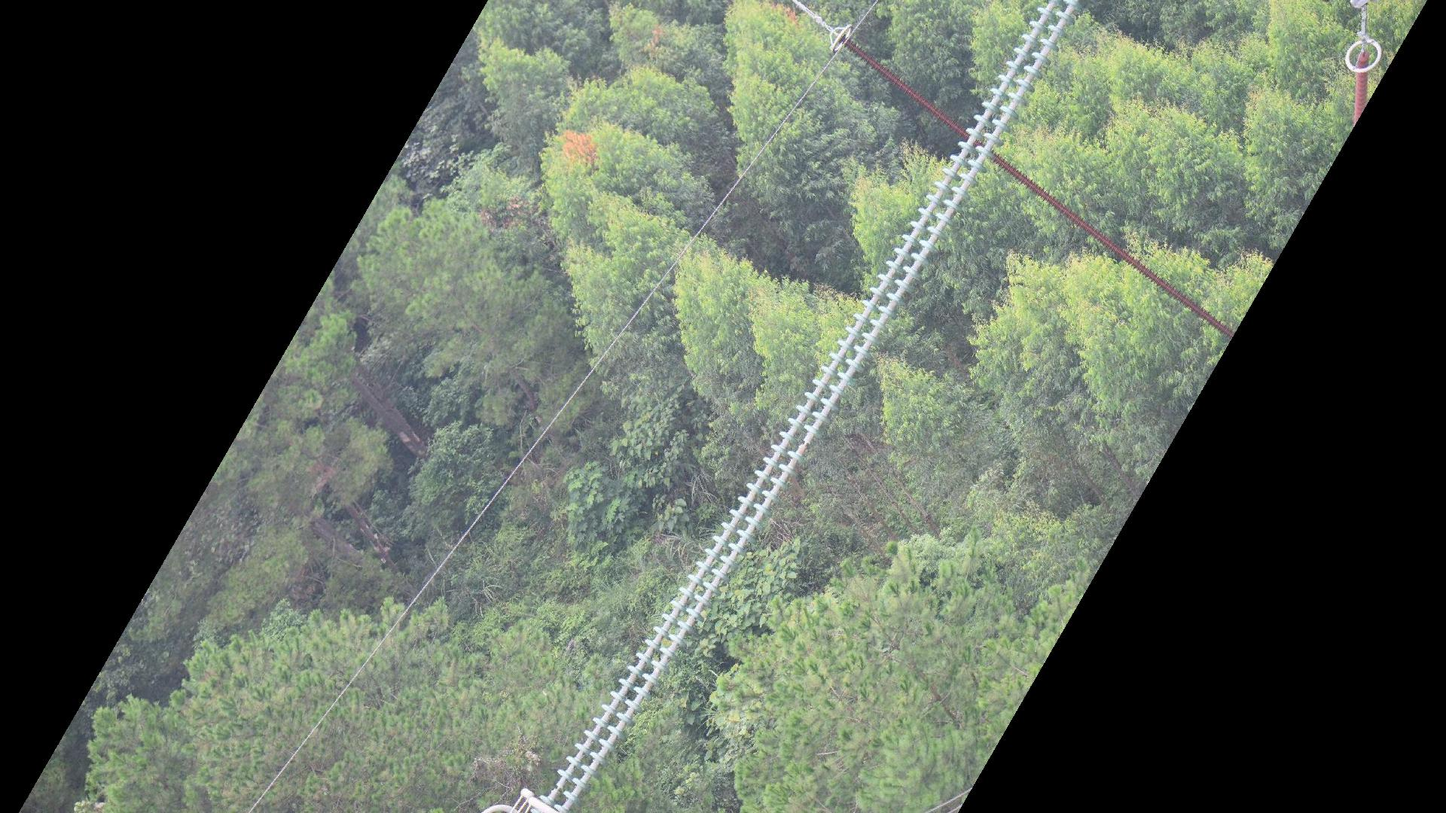insulator: (538, 1, 1089, 811), (839, 35, 1232, 341), (1344, 44, 1369, 125)
insulator_stringdrop: (535, 765, 575, 808), (786, 423, 825, 467)
